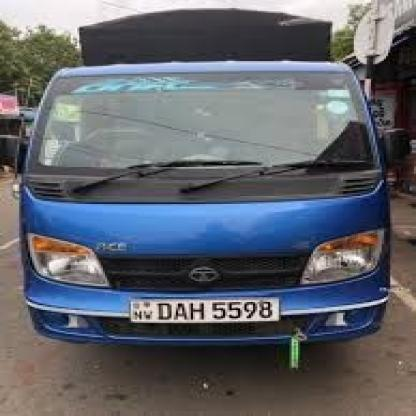Lorry front: (4, 4, 416, 366)
number plate: (121, 297, 282, 323)
